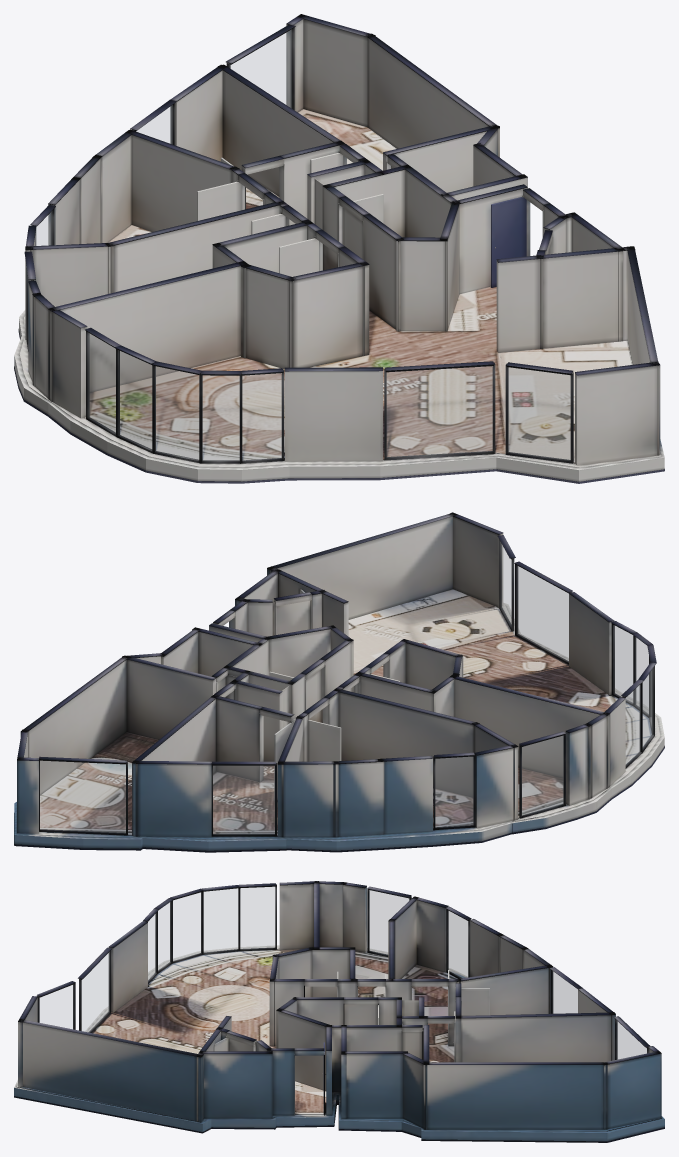
3 views of the same model, one above another, from view 1: azimuth 30°, elevation 25°; view 2: azimuth 150°, elevation 25°; view 3: azimuth 270°, elevation 25° (orthographic). The views are drawn at different scales.
Parts seen in each view (by area): view 1: plan, glass9_m, glass10_m, glass6_m, glass8_m, glass7_m, glass5_m, glass1_m, glass4_m, glass0_m; view 2: plan, glass1_m, glass0_m, glass9_m, glass3_m, glass2_m, glass8_m, glass4_m, glass7_m, glass10_m, glass5_m; view 3: plan, glass5_m, glass4_m, glass6_m, glass9_m, glass3_m, glass2_m, glass10_m, glass0_m, glass7_m, glass1_m, glass8_m.
Boxes of the visible parts, x1,y1,x2,y2 form: plan: (14,14,664,483); glass9_m: (387,366,492,457); glass10_m: (508,367,570,460); glass6_m: (155,366,198,459); glass8_m: (242,373,281,460); glass7_m: (202,375,239,460); glass5_m: (119,351,151,449); glass1_m: (231,30,291,107); glass4_m: (88,333,115,433); glass0_m: (136,105,172,143); plan: (14,512,664,852); glass1_m: (40,761,125,833); glass0_m: (213,766,274,834); glass9_m: (517,566,568,661); glass3_m: (522,736,563,815); glass2_m: (435,757,473,827); glass8_m: (614,625,632,702); glass4_m: (626,685,640,764); glass7_m: (635,637,648,714); glass10_m: (501,543,511,625); glass5_m: (643,669,652,747); plan: (14,881,664,1142); glass5_m: (204,888,238,952); glass4_m: (240,887,274,948); glass6_m: (173,893,201,960); glass9_m: (82,952,109,1032); glass3_m: (369,890,408,954); glass2_m: (448,910,467,977); glass10_m: (40,985,73,1028); glass0_m: (552,971,577,1013); glass7_m: (158,902,170,970); glass1_m: (617,1021,646,1059); glass8_m: (148,914,155,980).
Size of the model in its own units: 14.09 by 2.62 by 20.55.
2 materials, 1 textured.
